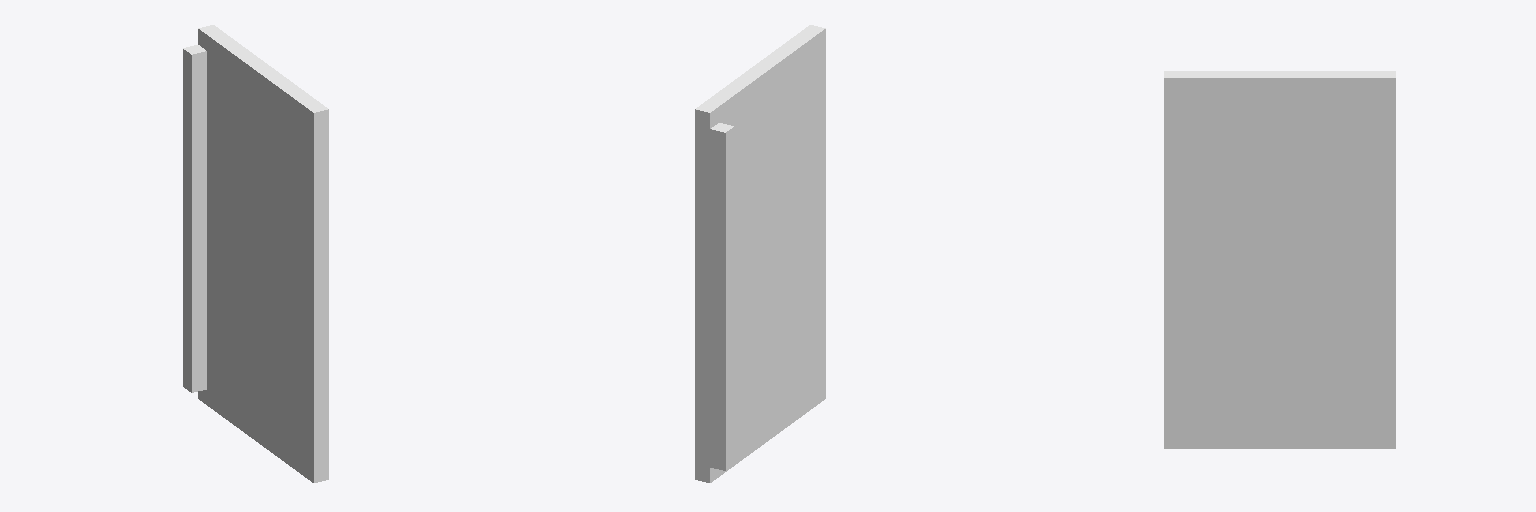
The model's file is fridge_door.obj.
3 renders of one model, left to right at view 1: azimuth 30°, elevation 25°; view 2: azimuth 150°, elevation 25°; view 3: azimuth 270°, elevation 25°, orthographic.
Parts seen in each view (by area): view 1: fridge_door; view 2: fridge_door; view 3: fridge_door.
Boxes of the visible parts, x1,y1,x2,y2 form: fridge_door: [183, 25, 328, 482]; fridge_door: [695, 25, 825, 482]; fridge_door: [1164, 71, 1395, 448].
Bounding box in the file's own units: 2 × 23 × 13.